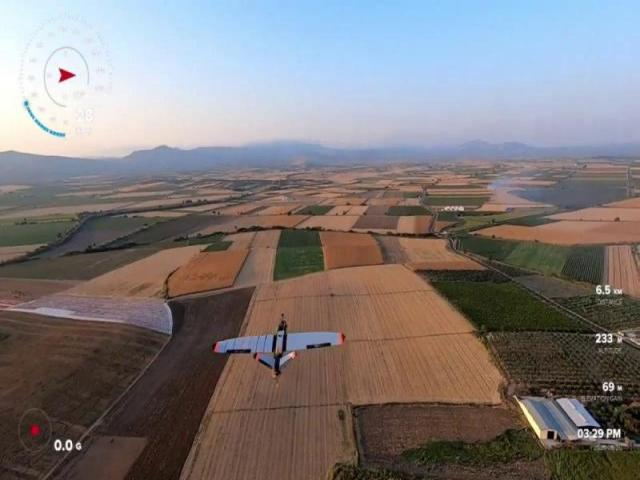hedef: (212, 314, 351, 382)
